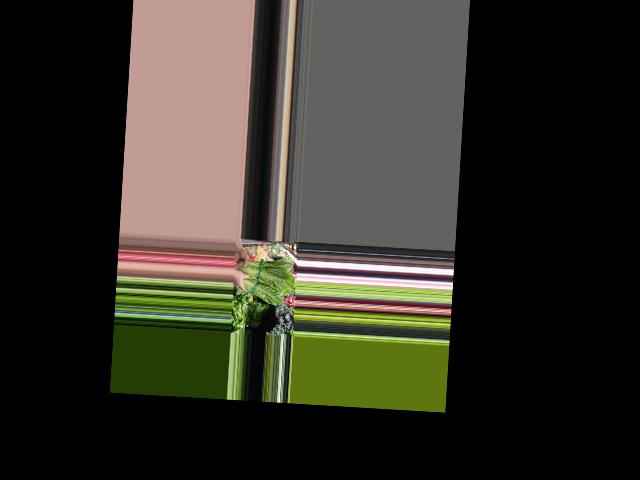lettuce: (231, 256, 293, 306)
